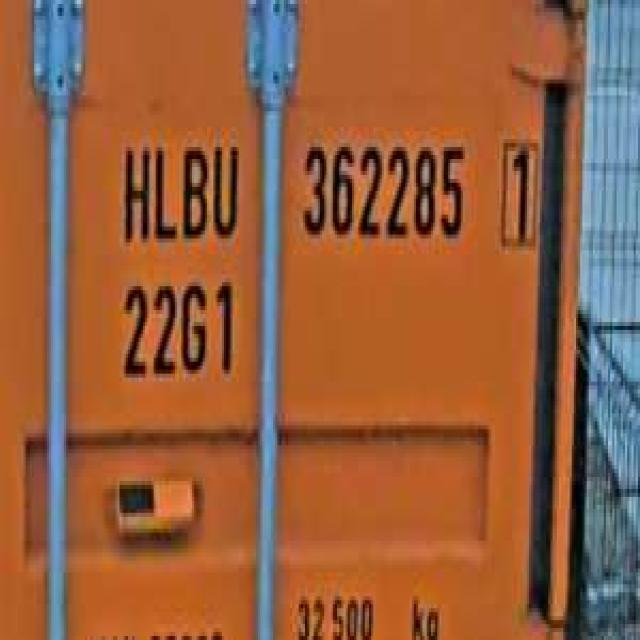dv: (493, 124, 544, 258)
owner: (118, 131, 244, 247)
serial: (294, 127, 470, 250)
size: (115, 266, 239, 389)
